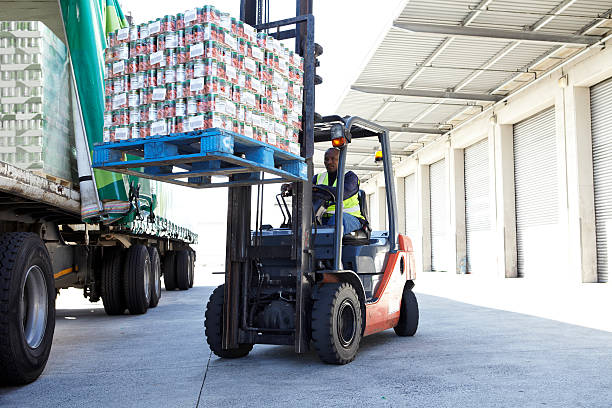unit_load: (106, 15, 333, 200)
